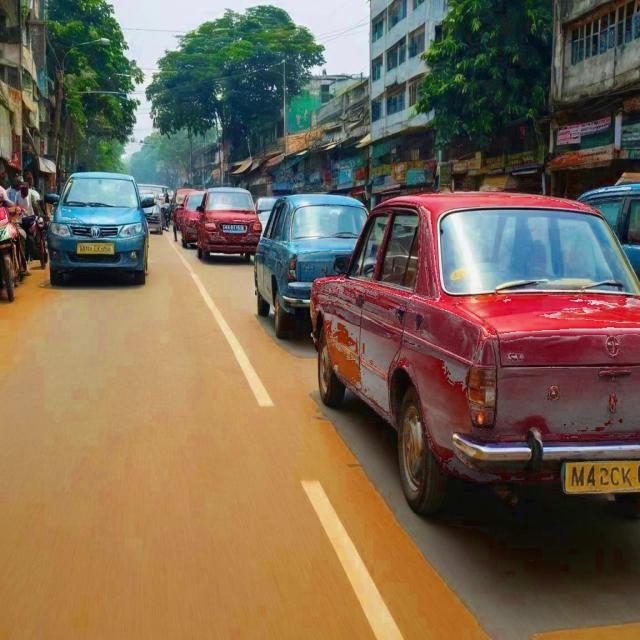blue: (262, 194, 386, 332), (52, 170, 149, 296)
maroon: (198, 187, 260, 264)
red: (315, 187, 640, 536)
